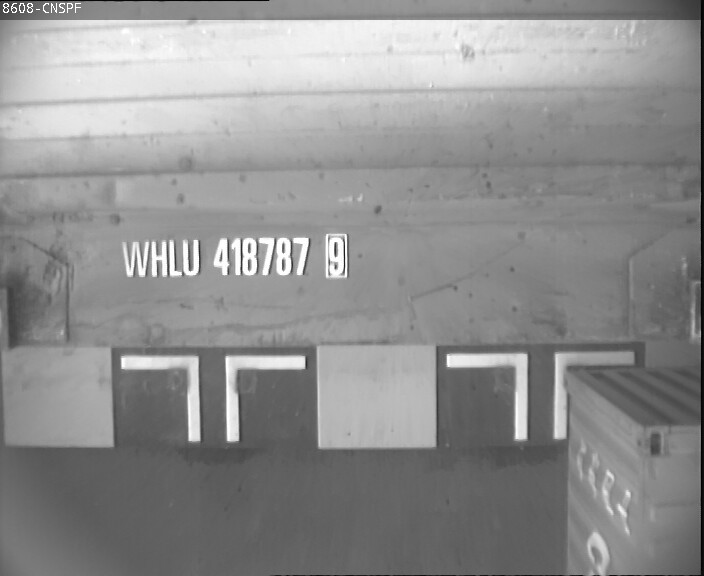groundmarker_1: (116, 351, 305, 441), (446, 350, 634, 440)
